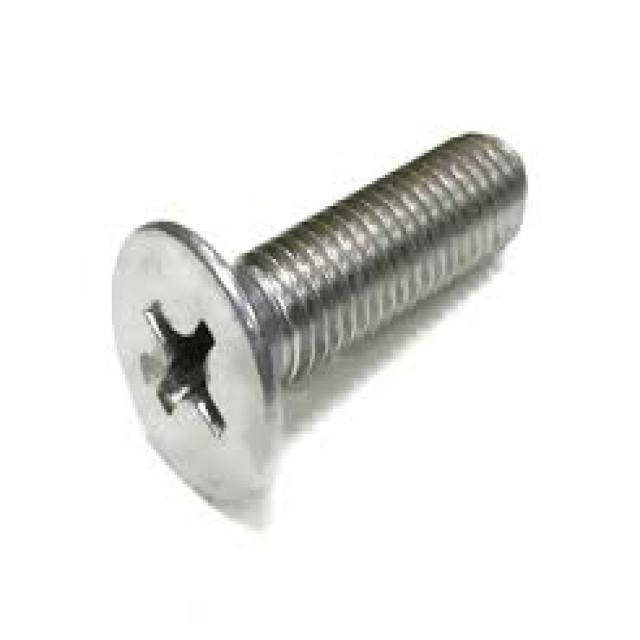Dry Waste: (84, 130, 578, 475)
